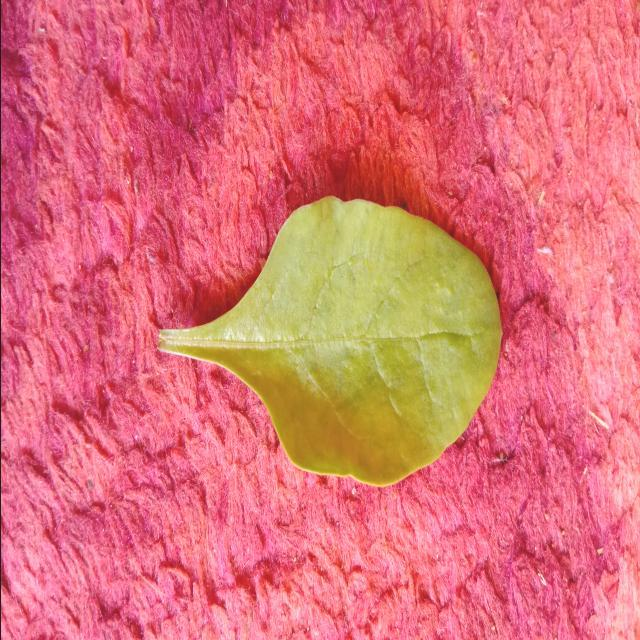leaf: (156, 193, 503, 487)
